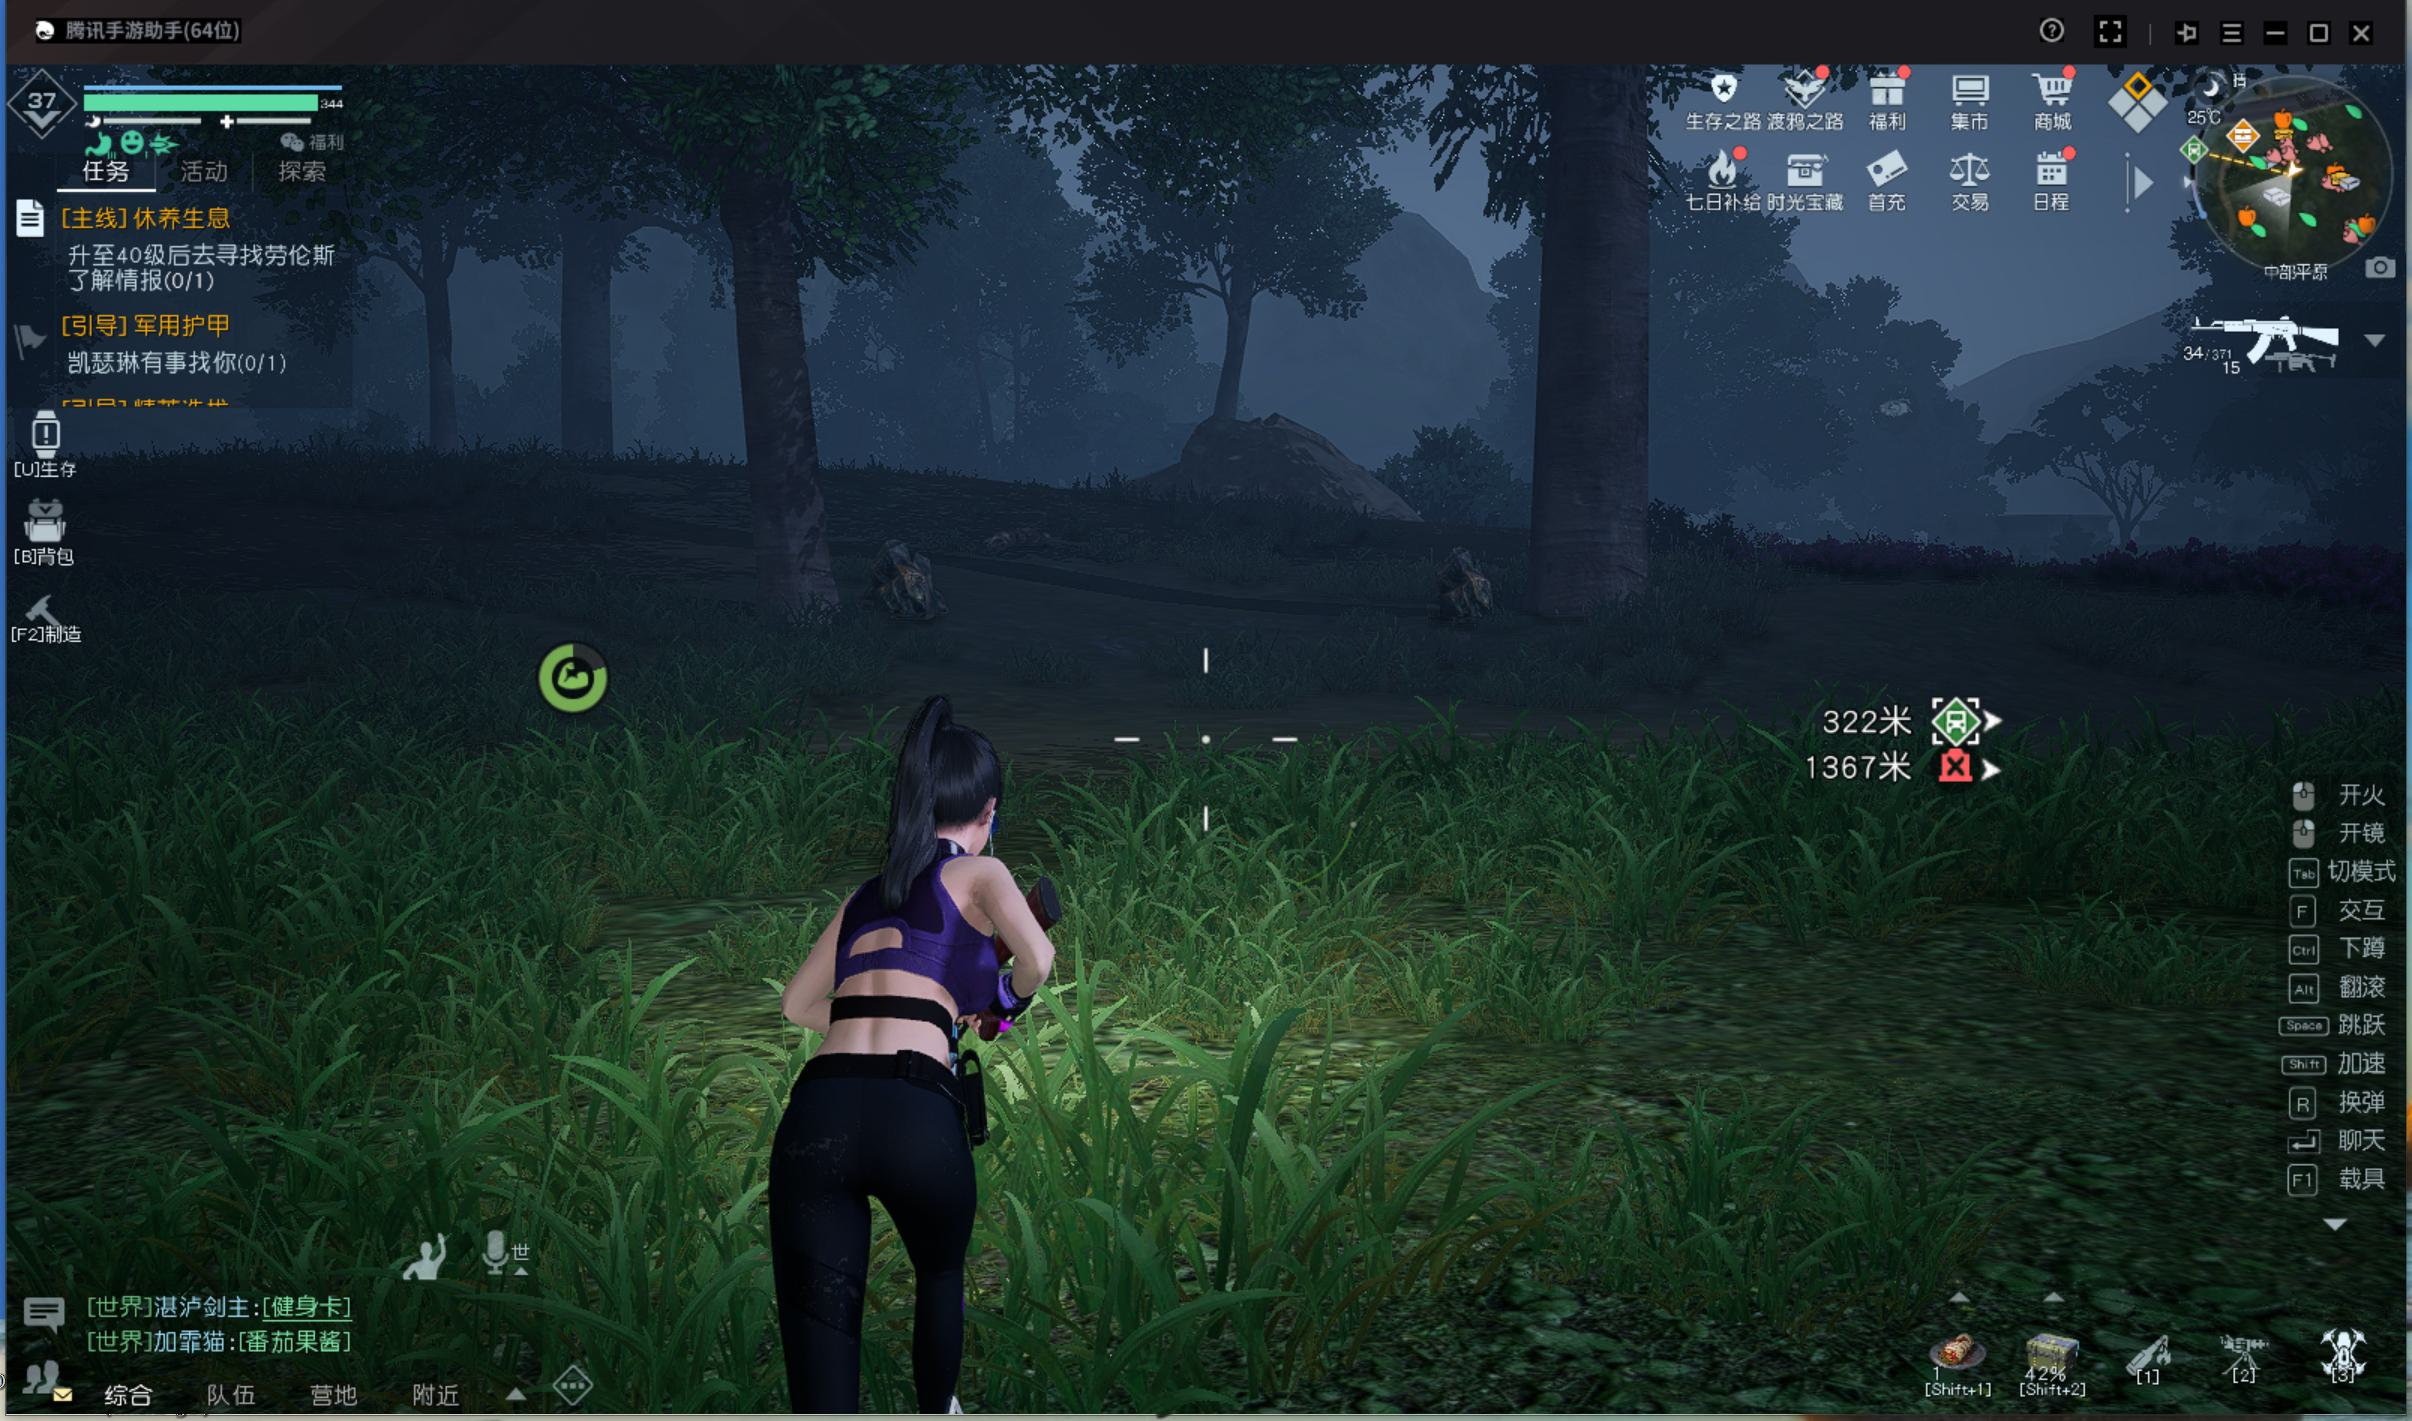stone: (854, 514, 952, 633), (1424, 521, 1502, 650)
tree: (1522, 218, 1675, 631), (721, 237, 829, 594), (551, 239, 636, 491), (414, 244, 465, 469)
